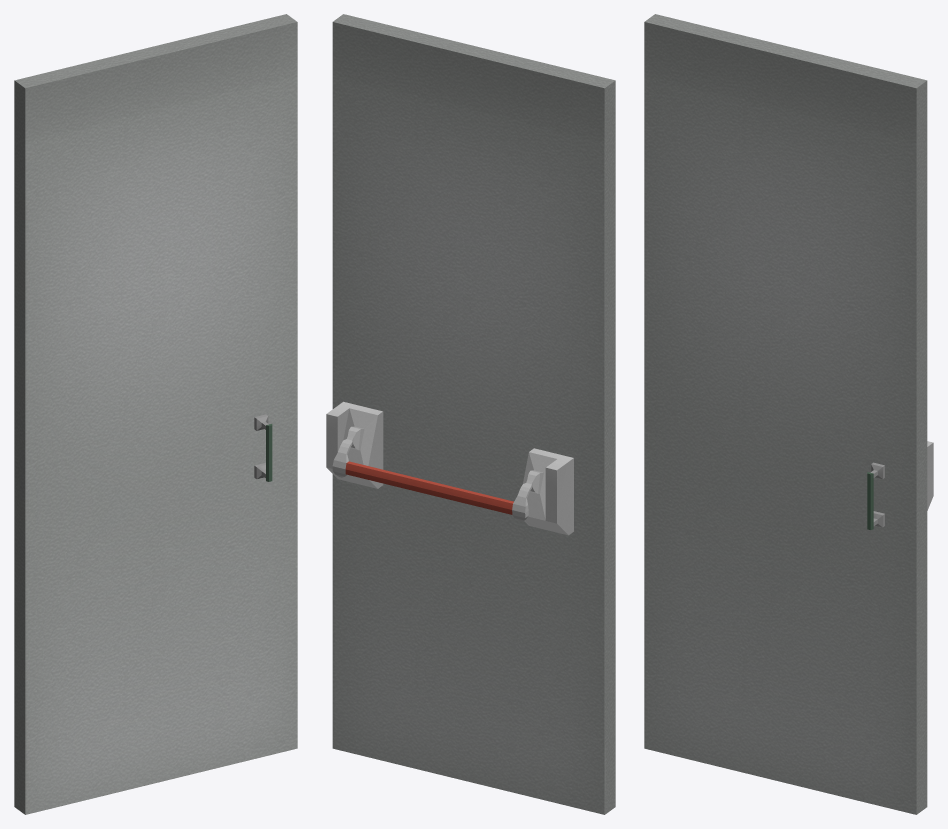
Rendered from Porta.fbx.
The picture shows the model from 3 angles, left to right: view 1: azimuth 30°, elevation 25°; view 2: azimuth 150°, elevation 25°; view 3: azimuth 330°, elevation 25°; orthographic projection.
Parts seen in each view (by area): view 1: Cube; view 2: Cube; view 3: Cube.
Boxes of the visible parts, x1,y1,x2,y2 form: Cube: (14,14,297,814); Cube: (326,14,615,814); Cube: (644,14,933,814).
Size of the model in its own units: 2.57 by 6.57 by 0.8347.
